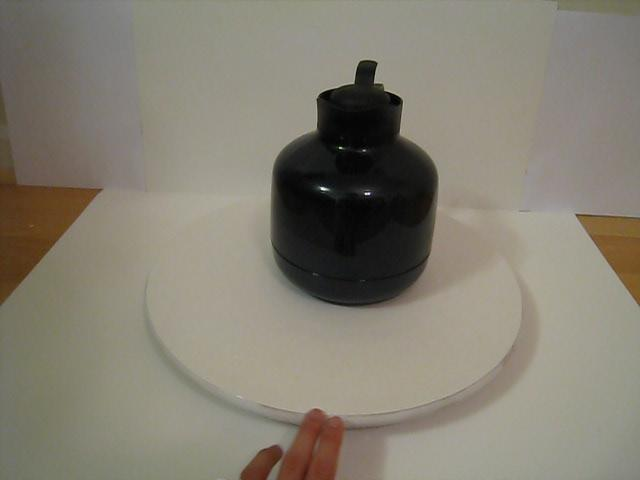pitcher: (268, 54, 444, 320)
